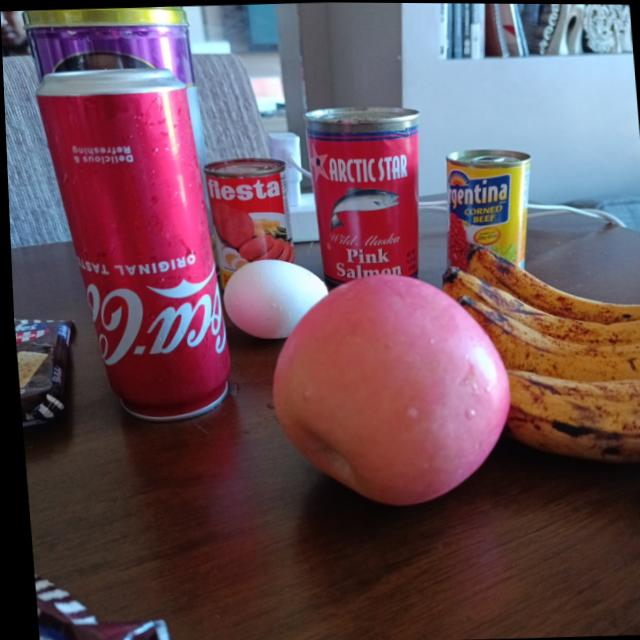apple: (261, 270, 519, 508)
coke: (37, 69, 235, 425)
egg: (219, 253, 331, 338)
